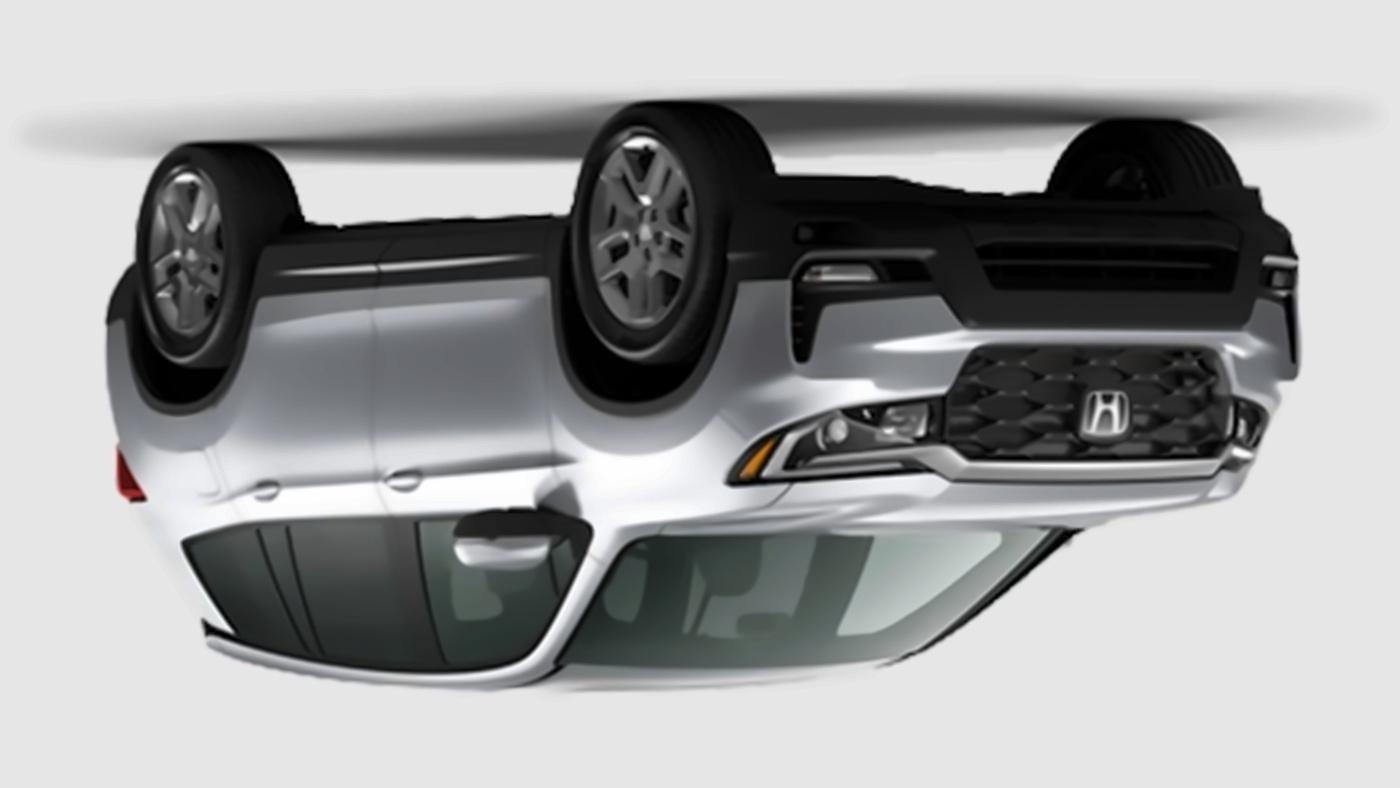Car hood: (659, 464, 1254, 542)
Fender - -F-L-: (539, 254, 798, 565)
Fender - -R-L-: (119, 365, 228, 525)
Front bumper: (707, 187, 1325, 407)
Headlight - -L-: (705, 385, 957, 492)
Headlight - -R-: (1202, 387, 1281, 465)
Passenger-s door - -F-L-: (372, 267, 563, 692)
Passenger-s door - -R-L-: (210, 277, 398, 684)
Rear bumper: (74, 260, 163, 413)
Rear light - -L-: (100, 432, 158, 516)
Side bumper - -L-: (237, 214, 575, 300)
Side mirror - -L-: (452, 504, 575, 577)
